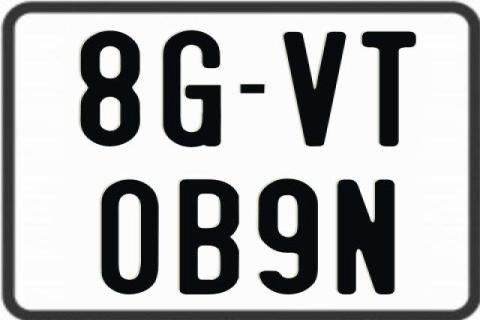0: (78, 28, 144, 144), (255, 178, 319, 296), (98, 180, 157, 300)
B: (178, 179, 242, 296)
G: (160, 29, 221, 147)
N: (335, 180, 397, 300)
T: (362, 29, 422, 147)
V: (280, 30, 346, 148)
